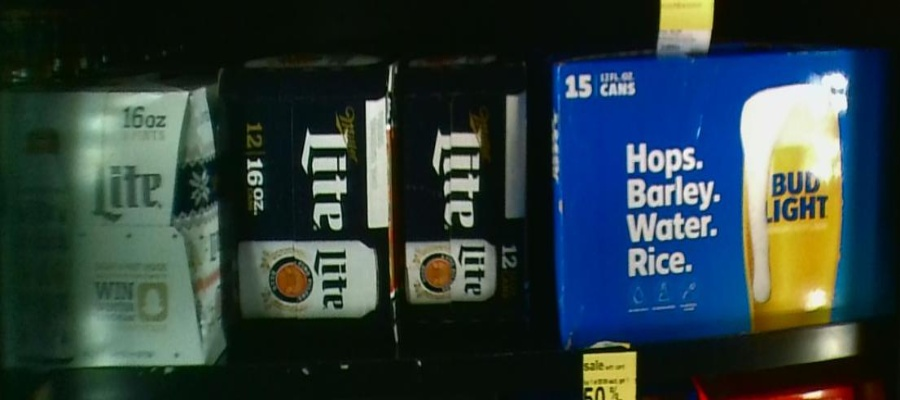bottle: (552, 53, 885, 338), (1, 79, 227, 365), (233, 62, 393, 335), (402, 57, 529, 332)
